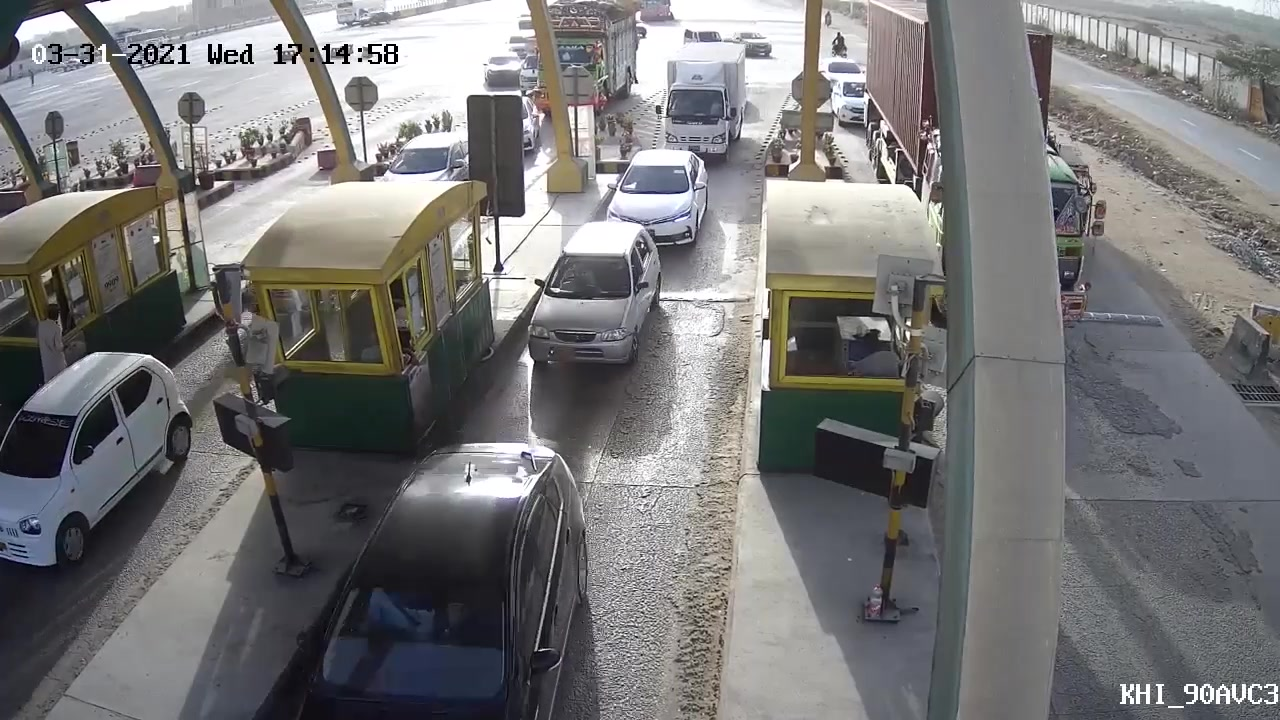F1: (512, 216, 668, 373), (603, 150, 713, 249)
